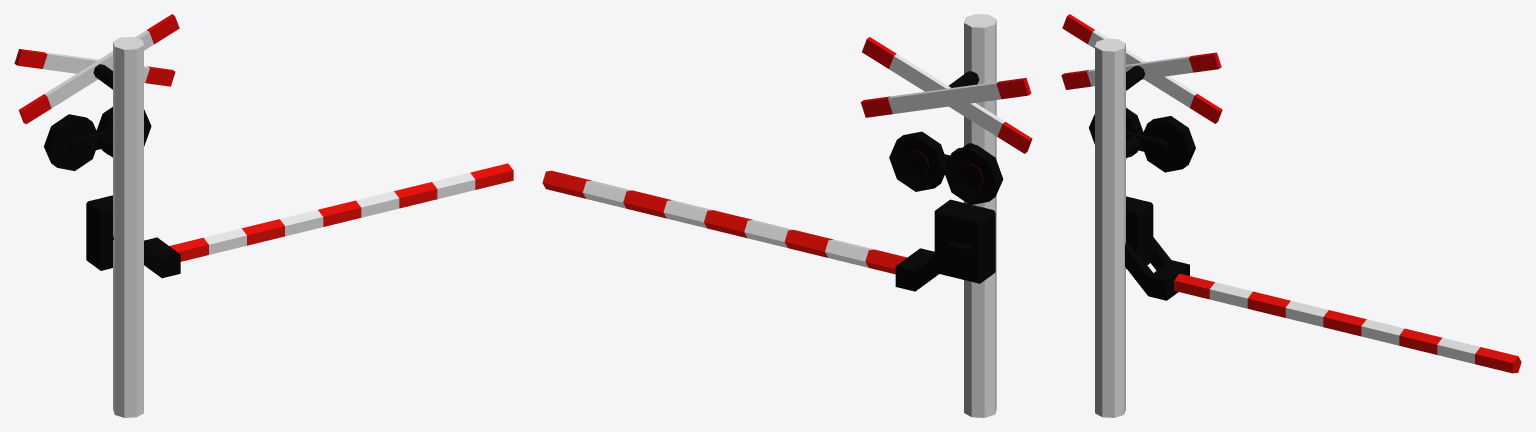
Rendered from TrainHand.fbx.
The picture shows the model from 3 angles, left to right: view 1: azimuth 30°, elevation 25°; view 2: azimuth 150°, elevation 25°; view 3: azimuth 330°, elevation 25°; orthographic projection. The views are drawn at different scales.
Parts seen in each view (by area): view 1: Cylinder, Cylinder.001, Cube.008, Cylinder.008, Cube.006, Cube.009, Cube.007, Cylinder.005; view 2: Cylinder, Cylinder.001, Cube.006, Cube.009, Cube.008, Cylinder.008, Cylinder.003, Cube.007, Cylinder.007, Cylinder.004; view 3: Cylinder, Cylinder.001, Cube.009, Cube.007, Cube.008, Cylinder.003, Cube.006, Cylinder.005, Cylinder.008.
Boxes of the visible parts, x1,y1,x2,y2 form: Cylinder: (113, 37, 143, 417); Cylinder.001: (169, 163, 513, 261); Cube.008: (18, 14, 179, 124); Cylinder.008: (44, 114, 97, 170); Cube.006: (86, 195, 112, 270); Cube.009: (14, 49, 175, 86); Cube.007: (108, 234, 180, 278); Cylinder.005: (68, 129, 112, 157); Cylinder: (964, 14, 996, 417); Cylinder.001: (542, 170, 907, 274); Cube.006: (934, 199, 995, 283); Cube.009: (860, 77, 1031, 117); Cube.008: (862, 37, 1032, 153); Cylinder.008: (944, 145, 1003, 205); Cylinder.003: (889, 131, 947, 191); Cube.007: (895, 241, 971, 291); Cylinder.007: (959, 164, 983, 188); Cylinder.004: (905, 150, 928, 175); Cylinder: (1095, 38, 1125, 417); Cylinder.001: (1174, 273, 1521, 373); Cube.009: (1062, 14, 1222, 123); Cube.007: (1125, 237, 1189, 300); Cube.008: (1061, 52, 1221, 89); Cylinder.003: (1143, 116, 1195, 172); Cube.006: (1126, 196, 1153, 268); Cylinder.005: (1126, 130, 1168, 158); Cylinder.008: (1089, 108, 1143, 157).
Size of the model in its own units: 511 by 379 by 79.45.
